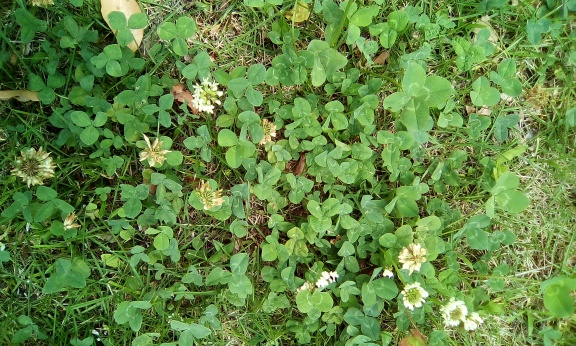4leaf: (382, 61, 452, 131)
